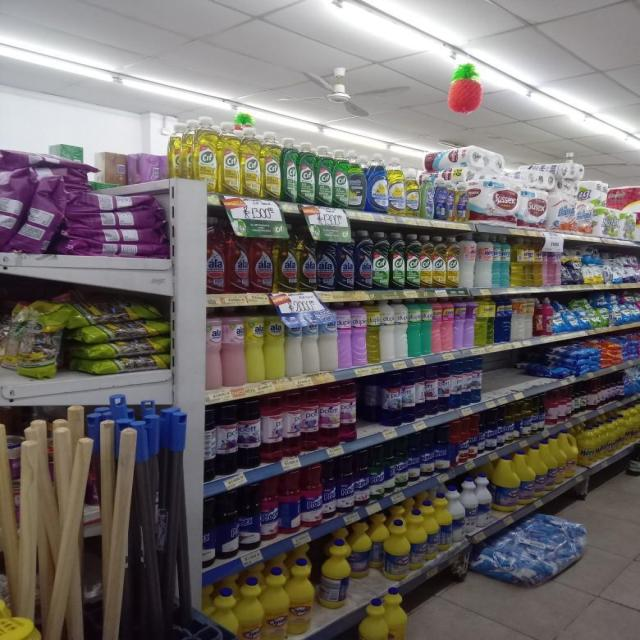ala_conc_amarillo: (274, 225, 298, 293), (298, 228, 316, 292)
ala_conc_azul: (316, 229, 336, 291), (336, 229, 354, 291), (356, 230, 372, 291)
ala_conc_rojo: (227, 218, 249, 294), (250, 222, 273, 294), (207, 216, 226, 294)
ala_crem_amarillo: (265, 308, 285, 380), (246, 308, 264, 382)
ala_crem_blanco: (285, 308, 302, 377), (303, 308, 320, 374), (320, 306, 337, 372)
ala_crem_rosado: (223, 308, 245, 387), (205, 309, 222, 391)
cif_conc_bot_amarilla: (195, 117, 218, 192), (218, 121, 240, 195), (261, 131, 281, 200), (241, 126, 260, 198), (432, 235, 445, 289), (420, 234, 432, 288), (446, 236, 458, 288)
cif_conc_botella_verde: (281, 136, 298, 202), (298, 141, 315, 205), (316, 146, 332, 207), (333, 148, 349, 209), (373, 231, 389, 290), (390, 232, 405, 290), (406, 233, 419, 289)
magistral_con_amarillo: (388, 158, 405, 216), (405, 168, 420, 217)
magistral_con_azul: (366, 156, 387, 213)
